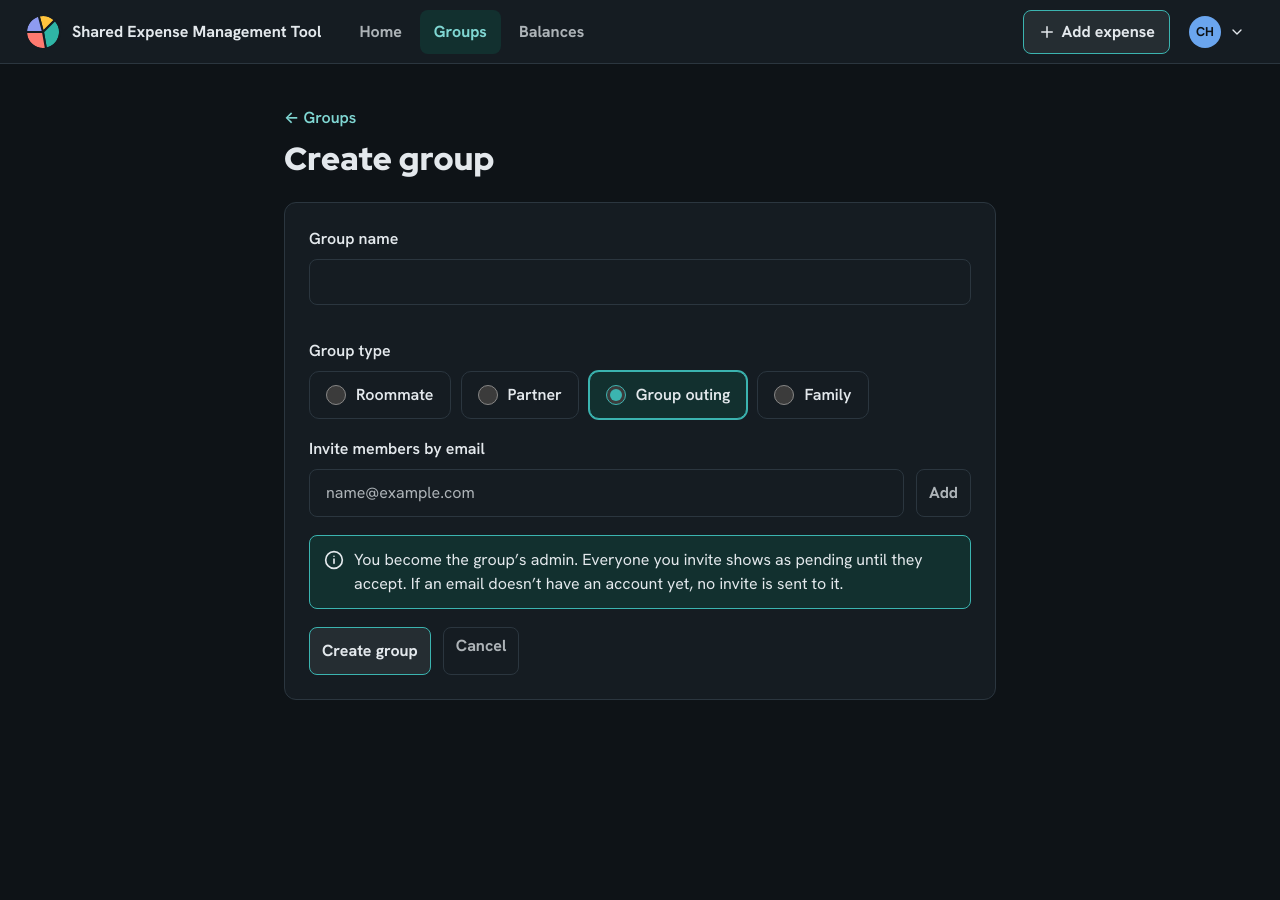
Test: Create group screen › asks for a name and sends nothing when it is empty
Click the button "Create group".
click(370, 651)  # box [309, 627, 431, 675]
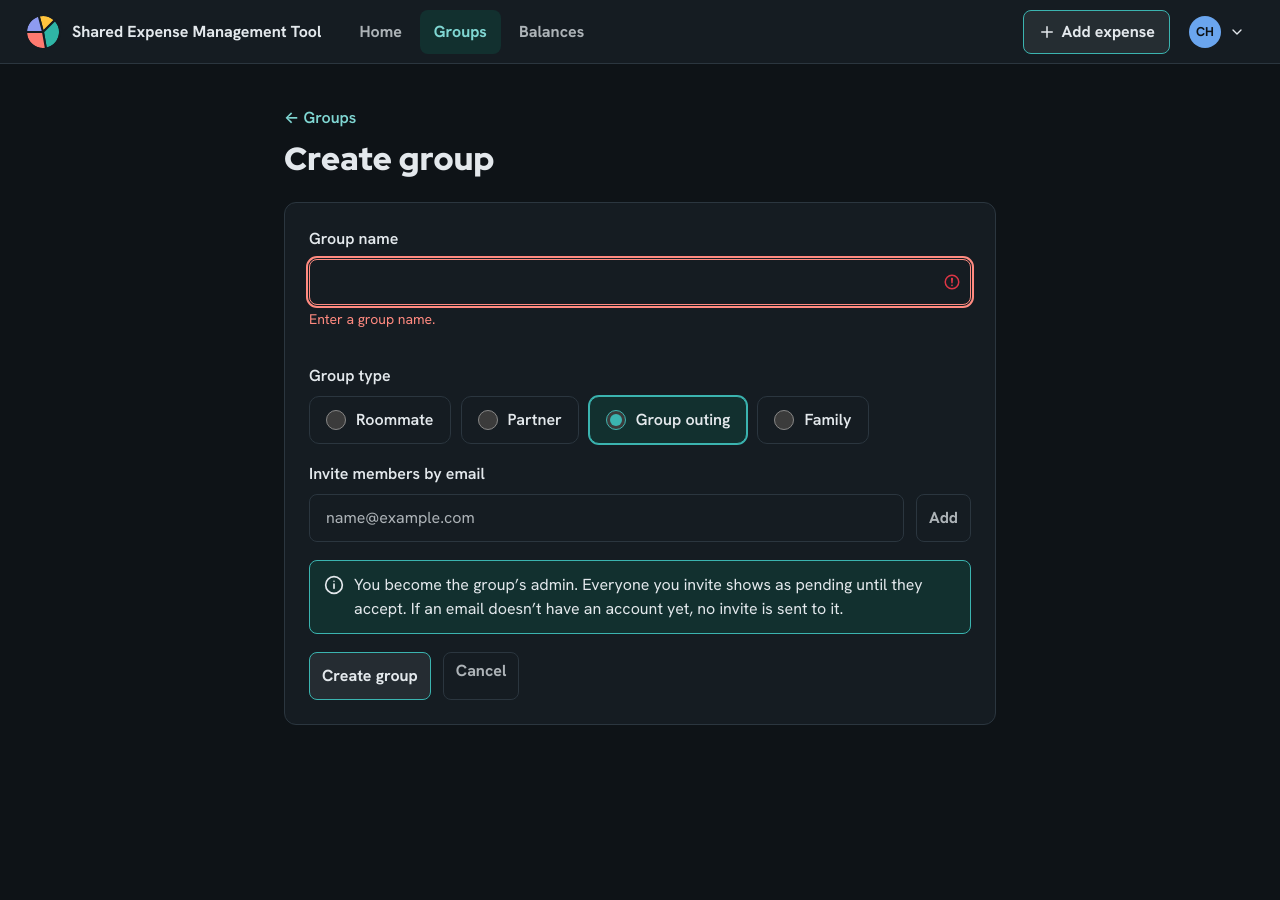
Expected: the text "Enter a group name." is shown, [309, 310, 436, 328]
